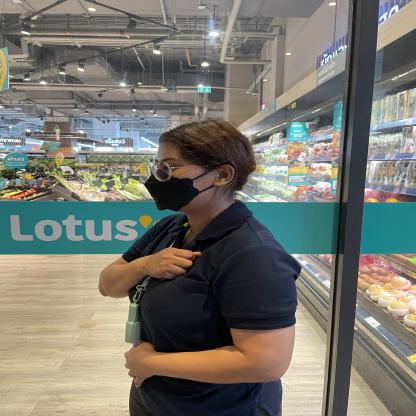Sadness: (70, 242, 226, 302)
